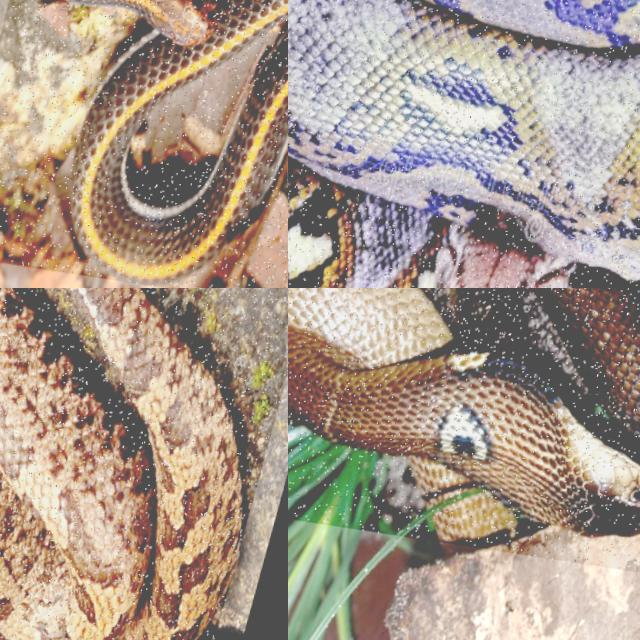Calliophis intestinalis: (72, 0, 287, 283)
Malayopython reticulatus: (288, 0, 639, 287)
Naja kaouthia: (288, 288, 639, 538)
Ovophis monticola: (0, 288, 241, 639)
